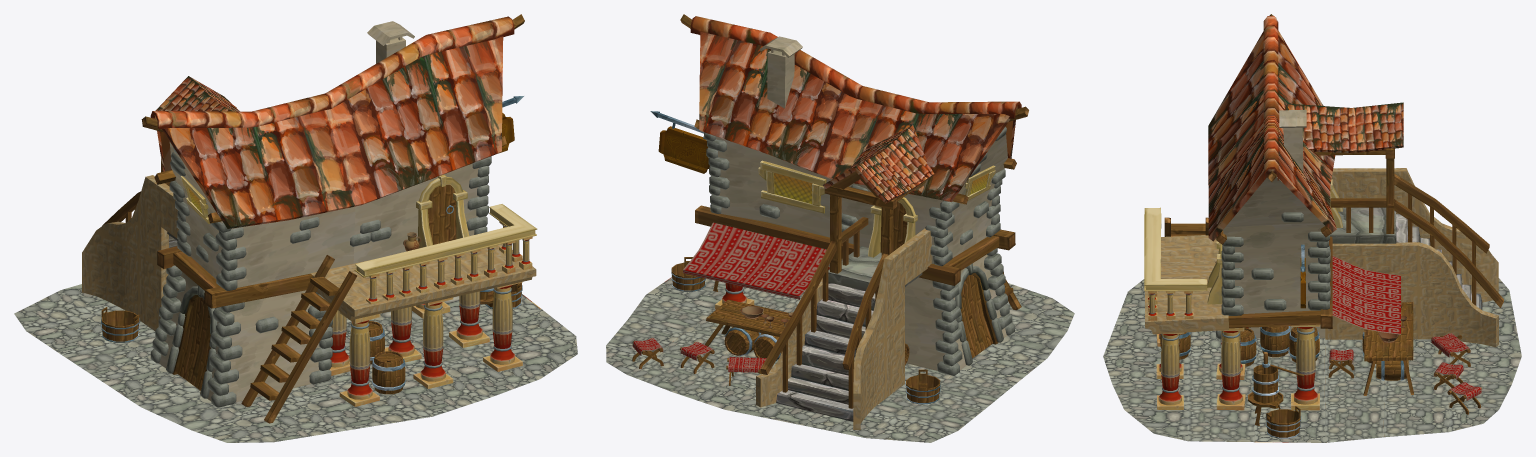
Rendered from winery_v3.glb.
3 renders of one model, left to right at view 1: azimuth 30°, elevation 25°; view 2: azimuth 150°, elevation 25°; view 3: azimuth 270°, elevation 25°, orthographic. The views are drawn at different scales.
Visible parts, largest first — view 1: Box002_Material #15_0.001; view 2: Box002_Material #15_0.001; view 3: Box002_Material #15_0.001.
Boxes of the visible parts, box(x1,y1,x2,y2) form: Box002_Material #15_0.001: box(14, 14, 577, 442); Box002_Material #15_0.001: box(606, 14, 1074, 442); Box002_Material #15_0.001: box(1103, 14, 1521, 442).
Bounding box in the file's own units: 4.27 × 2.91 × 4.05.
1 material, 1 textured.
